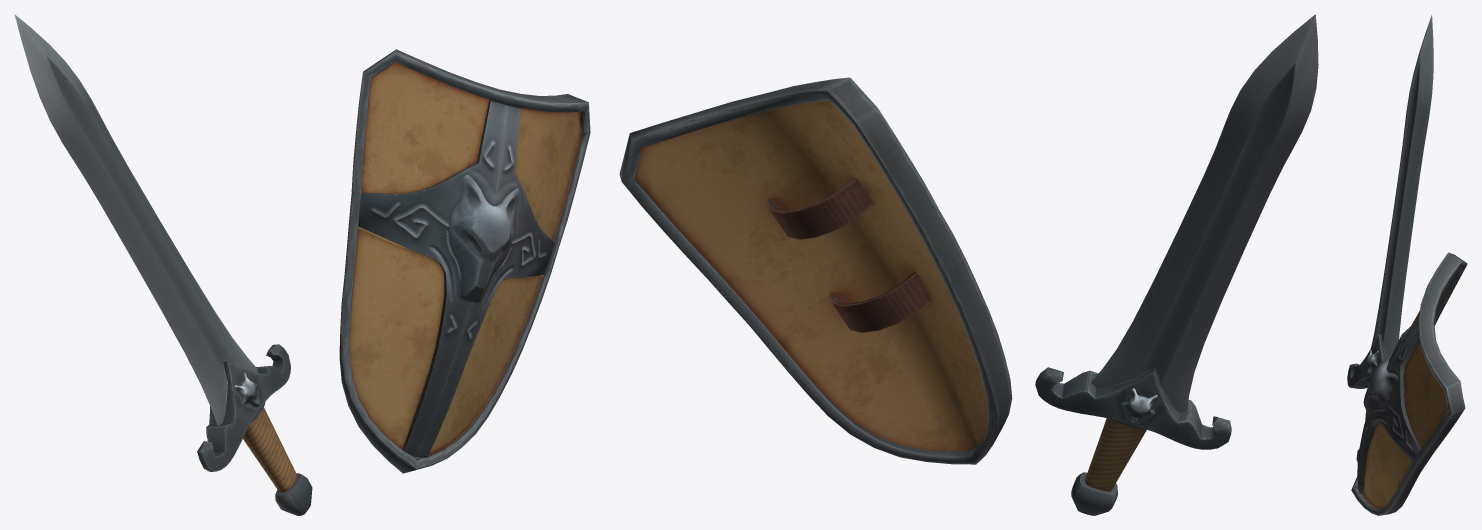
The picture shows the model from 3 angles, left to right: view 1: azimuth 30°, elevation 25°; view 2: azimuth 150°, elevation 25°; view 3: azimuth 270°, elevation 25°; orthographic projection. The views are drawn at different scales.
Visible parts, largest first — view 1: Escudo, Espada; view 2: Escudo, Espada; view 3: Escudo, Espada.
Part boxes in pixels (x1,y1,x2,y2): Escudo: (339, 49, 590, 473); Espada: (14, 14, 312, 515); Escudo: (619, 77, 1012, 464); Espada: (1035, 14, 1318, 515); Escudo: (1351, 252, 1467, 515); Espada: (1347, 15, 1433, 461).
Bounding box in the file's own units: 144 × 123 × 35.68.
Materials: 2 (2 with a texture image).
